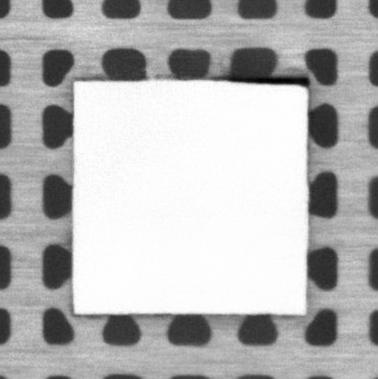DIE_BROKEN: (214, 75, 311, 88)
